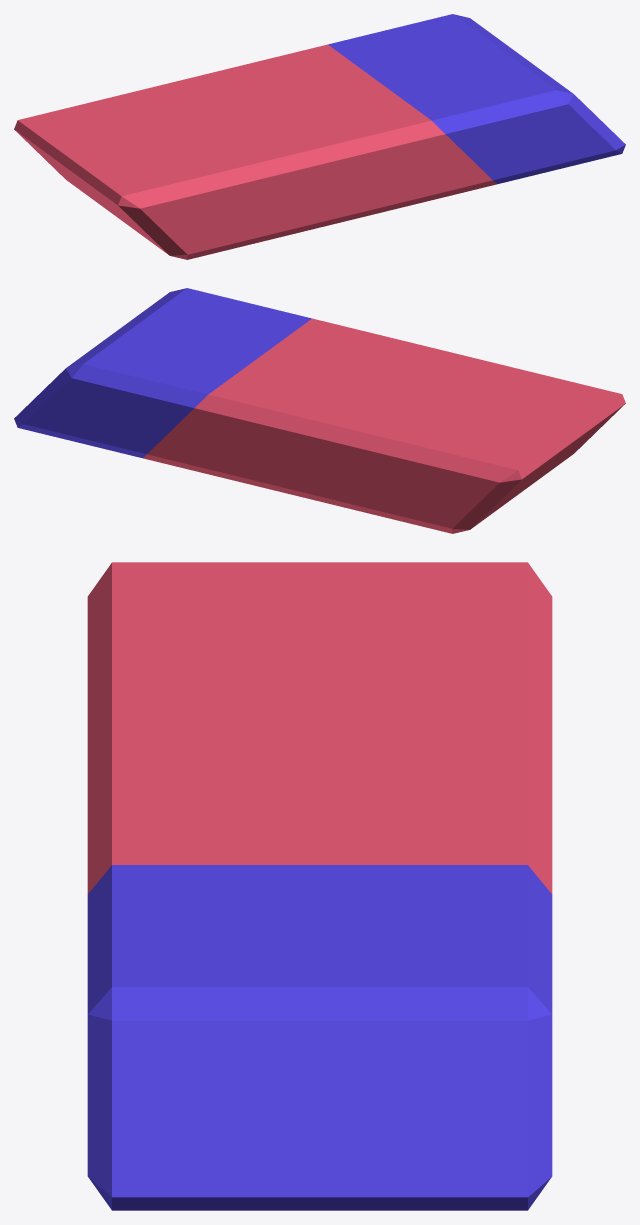
File: Eraser.fbx
3 renders of one model, top to bottom at view 1: azimuth 30°, elevation 25°; view 2: azimuth 150°, elevation 25°; view 3: azimuth 270°, elevation 25°, orthographic. The views are drawn at different scales.
Parts seen in each view (by area): view 1: Cube; view 2: Cube; view 3: Cube.
Part boxes in pixels (left/top/right/bottom): Cube: left=14, top=14, right=625, bottom=259; Cube: left=14, top=288, right=625, bottom=533; Cube: left=87, top=562, right=552, bottom=1210.
Size of the model in its own units: 2.32 by 5.85 by 0.8774.
